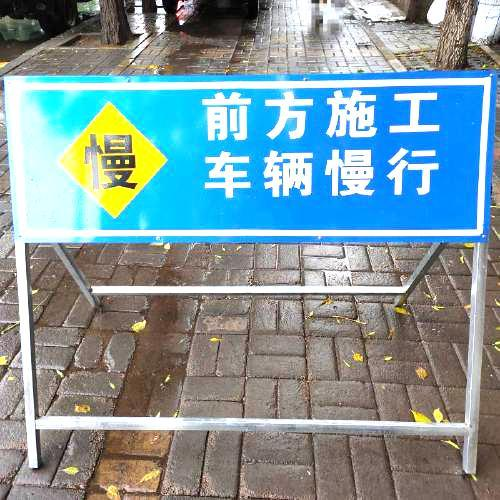sign: (7, 78, 486, 240)
